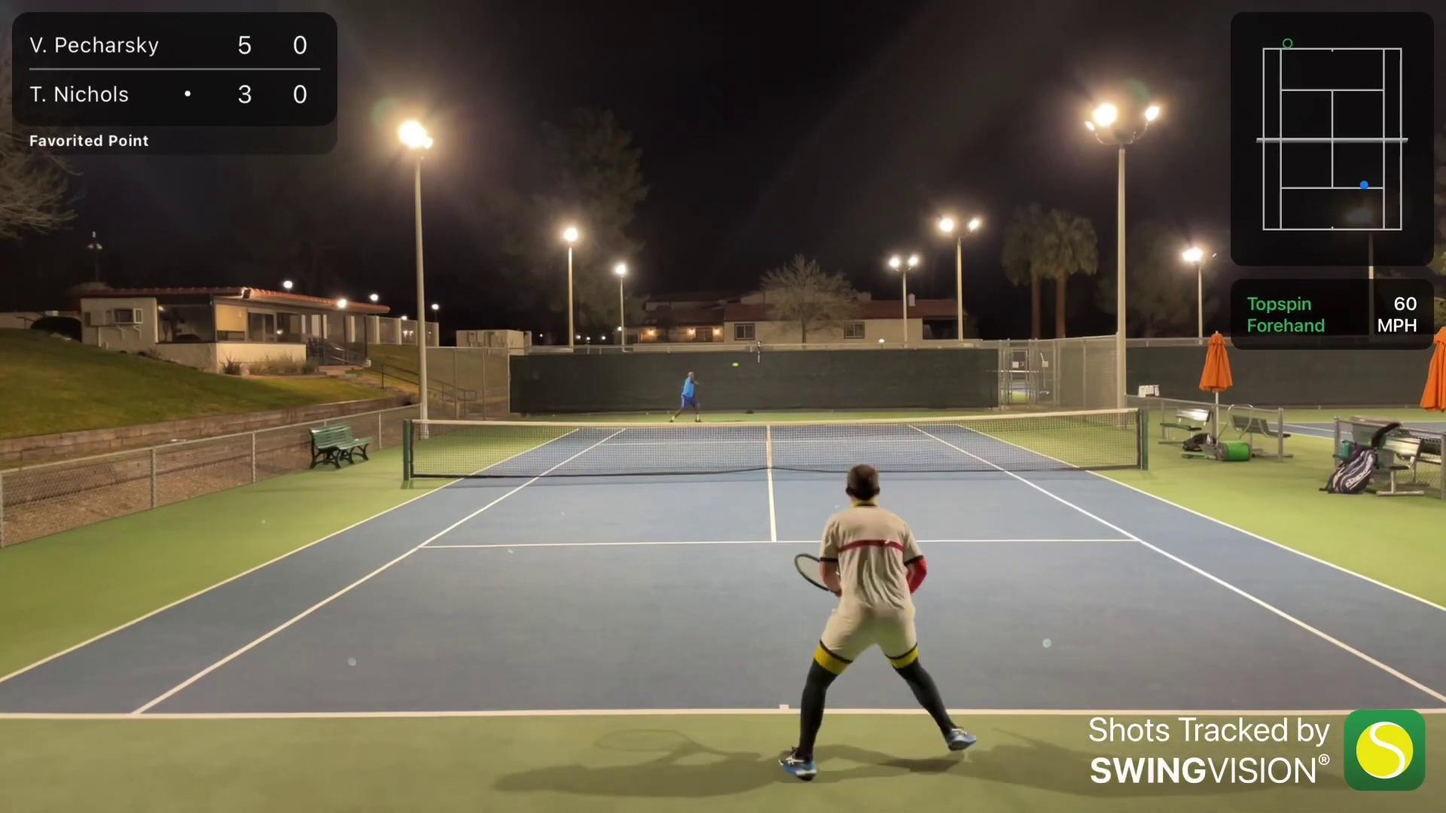ball: (733, 363, 742, 368)
